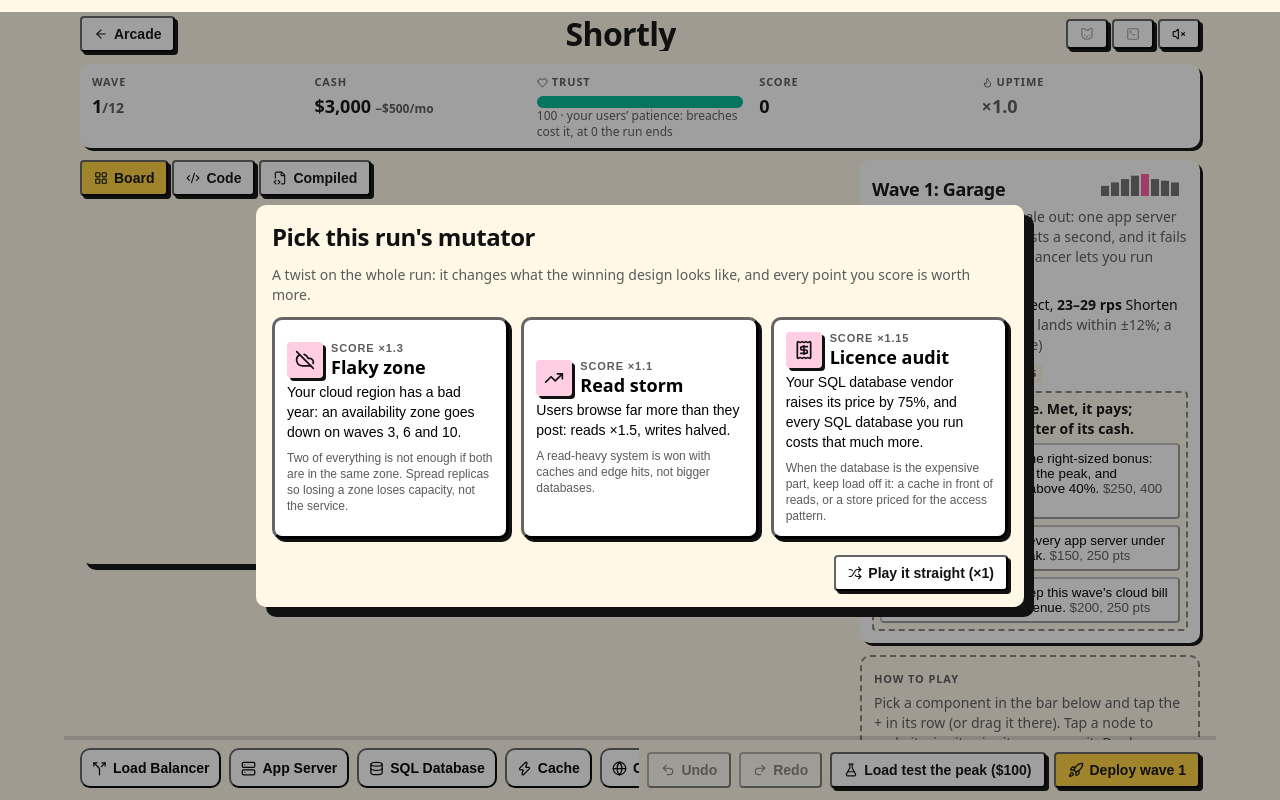
Test: RunScreen › offers the mutators before the first deploy of a run with the twists
This screenshot has width=1280, height=800.
What coordinates should you click on to do the following:
click the button "Play it straight (×1)"
I would click on:
 (921, 573)
Its box is [834, 555, 1008, 591].
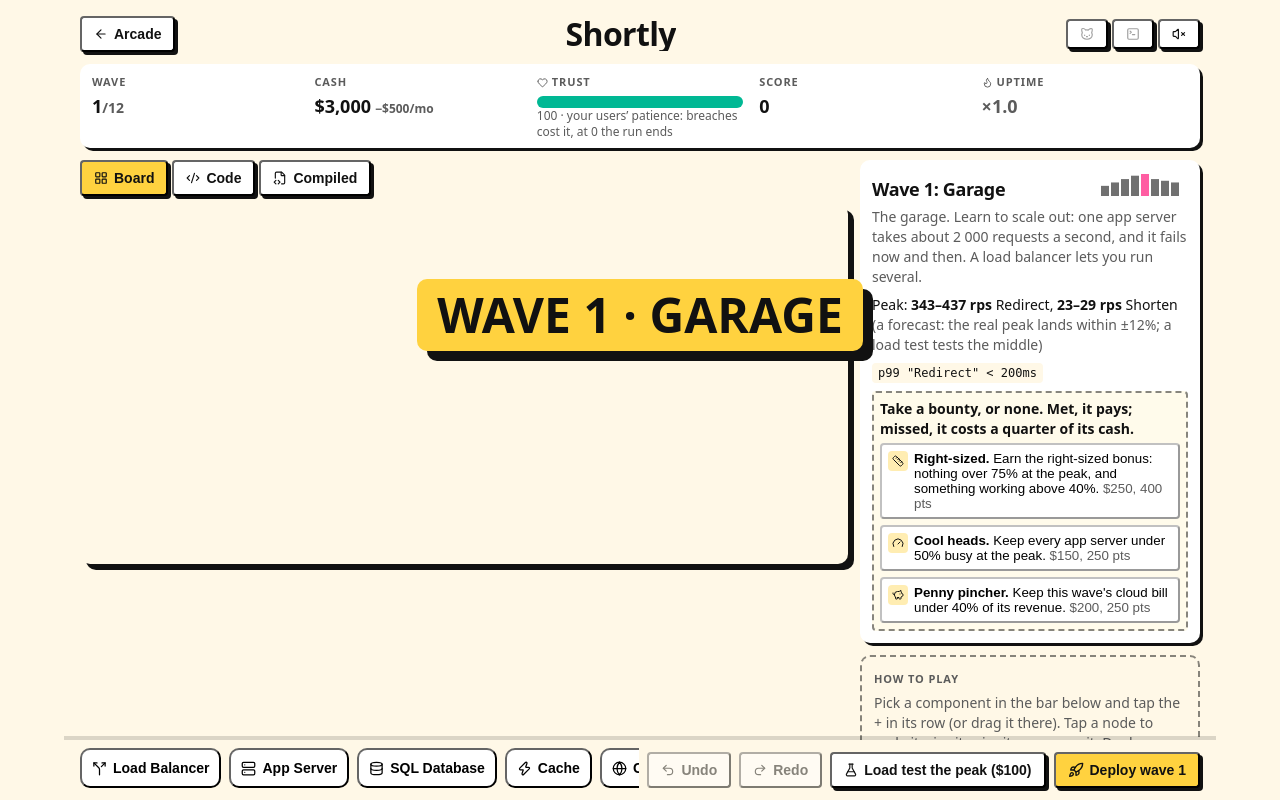
expect the button "Deploy wave 1" is shown: met, box [1054, 752, 1200, 788]
expect the heading "Pick this run's mutator" is gone: met
